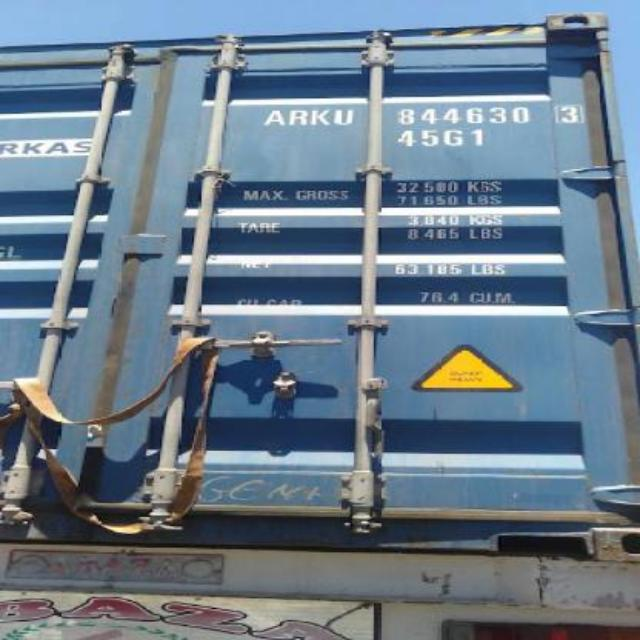0: (512, 105, 532, 125)
3: (558, 104, 580, 124), (488, 105, 508, 125)
4: (442, 105, 464, 125), (418, 106, 438, 124)
6: (462, 106, 488, 124)
8: (394, 105, 420, 126)
A: (264, 108, 284, 126)
K: (310, 108, 330, 128)
R: (288, 108, 308, 128)
U: (334, 108, 356, 128)
